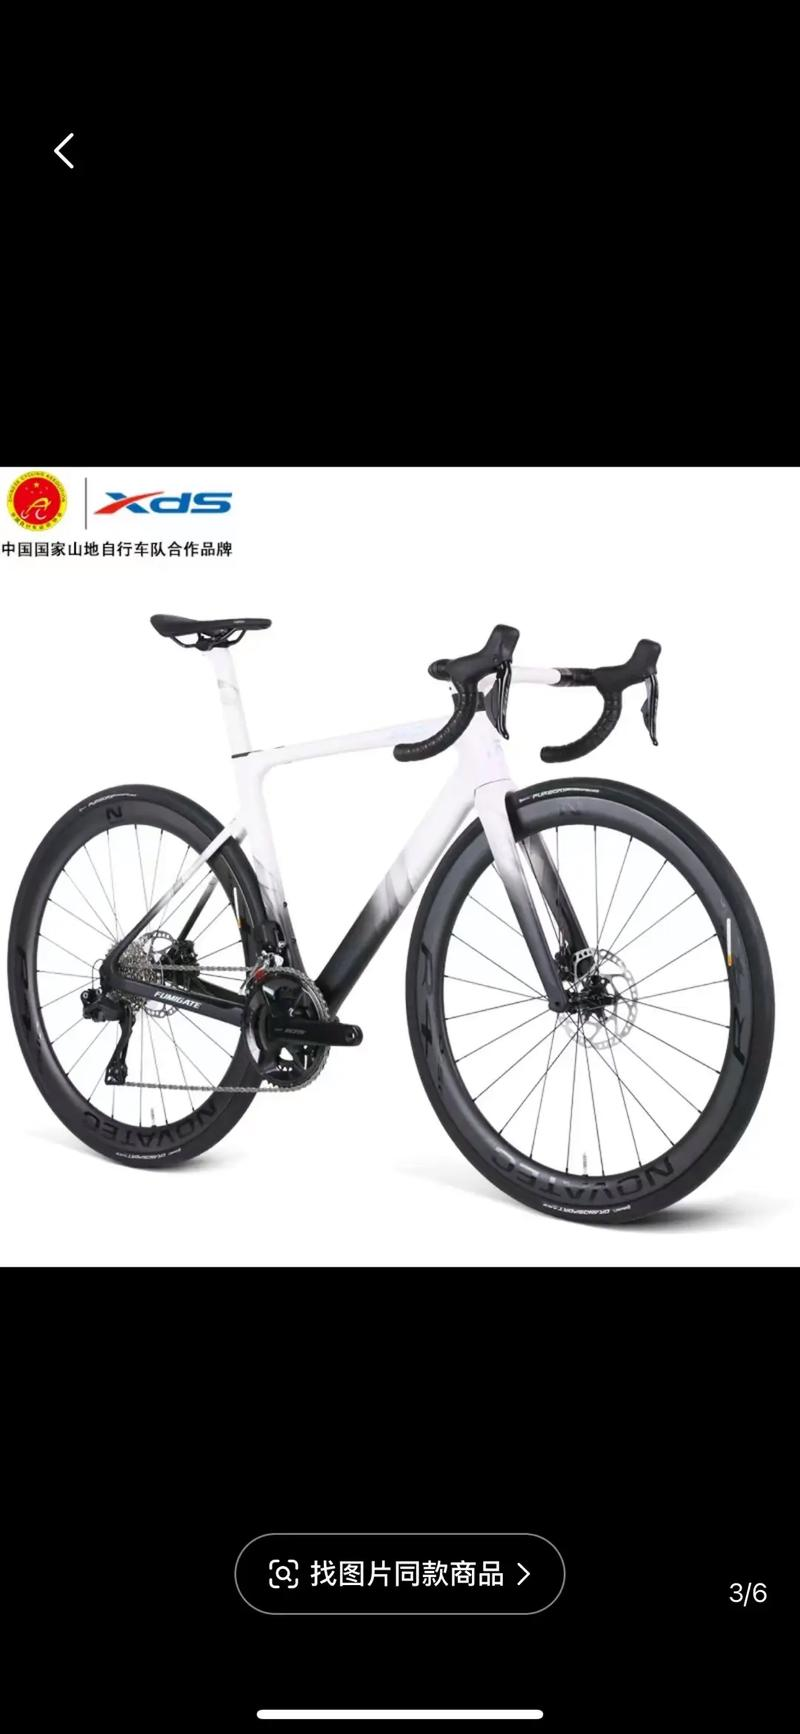单车: (10, 567, 786, 1228)
